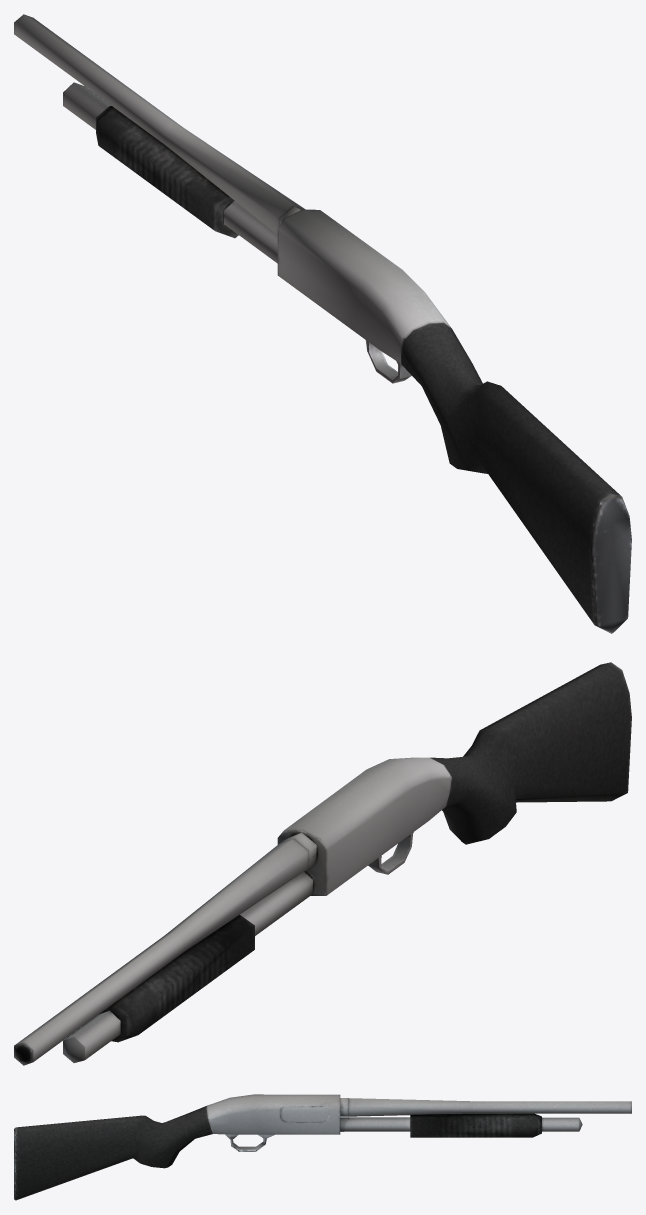
The model's file is Mossberg_Plastic.fbx.
The picture shows the model from 3 angles, top to bottom: view 1: azimuth 30°, elevation 25°; view 2: azimuth 150°, elevation 25°; view 3: azimuth 270°, elevation 25°; orthographic projection. The views are drawn at different scales.
Visible parts, largest first — view 1: Mossberg_Plastic; view 2: Mossberg_Plastic; view 3: Mossberg_Plastic.
Boxes of the visible parts, x1,y1,x2,y2 form: Mossberg_Plastic: [14, 14, 631, 633]; Mossberg_Plastic: [14, 662, 631, 1065]; Mossberg_Plastic: [14, 1094, 631, 1200].
Bounding box in the file's own units: 0.0274 × 0.5749 × 0.1064.
